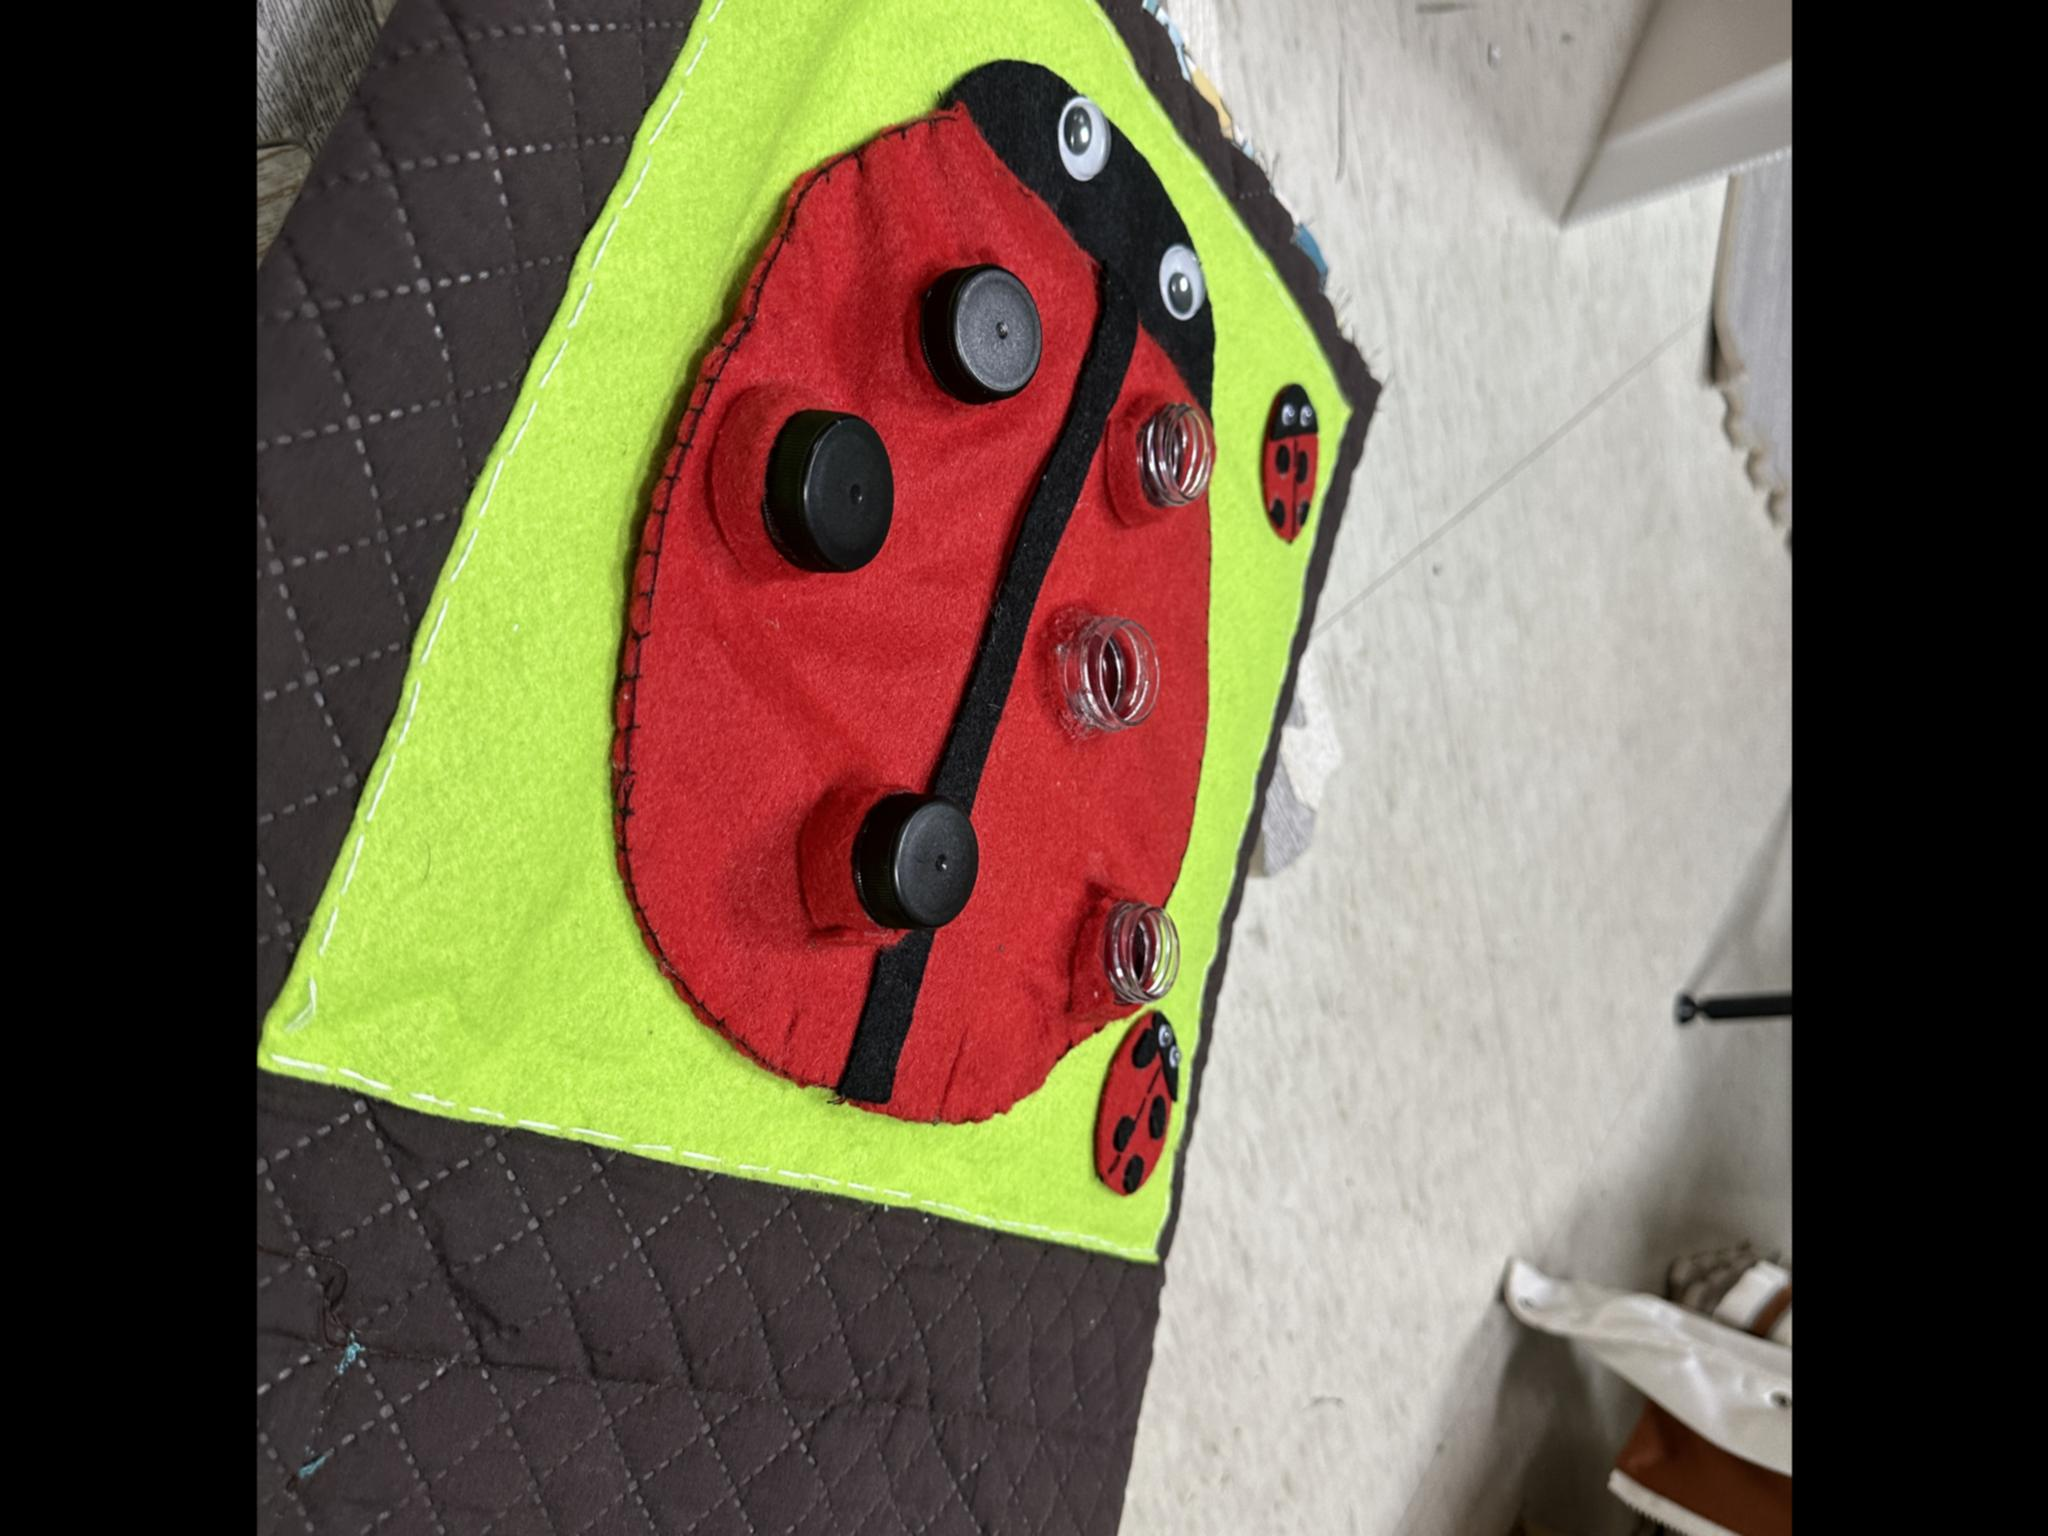cap_ok: (692, 392, 918, 616), (782, 753, 989, 979), (906, 260, 1059, 415)
